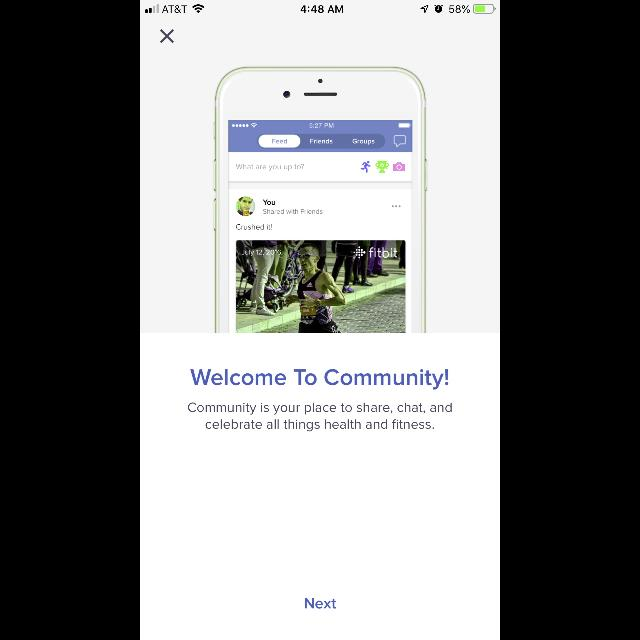icon: (160, 30, 174, 44)
image: (215, 67, 428, 333)
text: (188, 402, 452, 432), (191, 368, 449, 389), (306, 598, 336, 608)
uppertaskbar: (140, 0, 500, 14)
